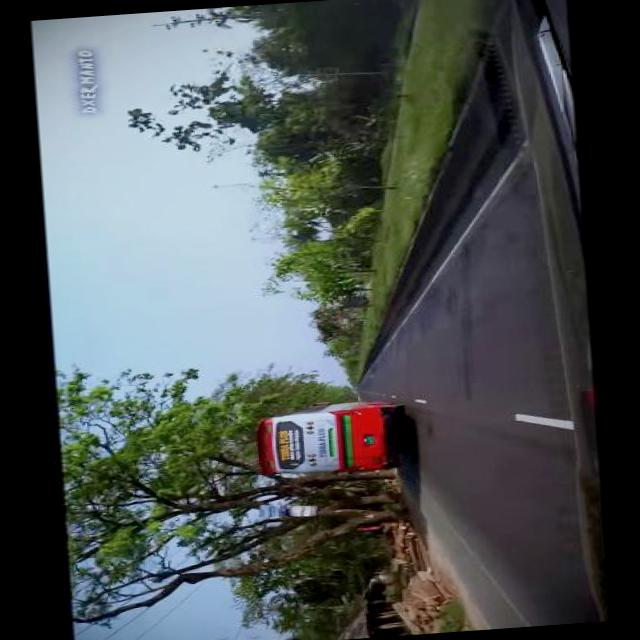bus: (251, 394, 412, 479)
